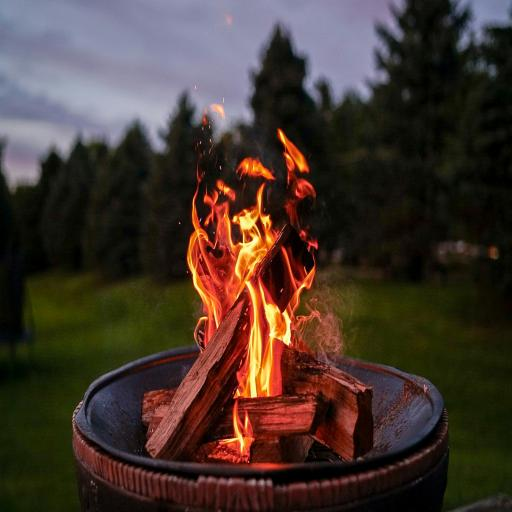campfire: (160, 109, 384, 469)
